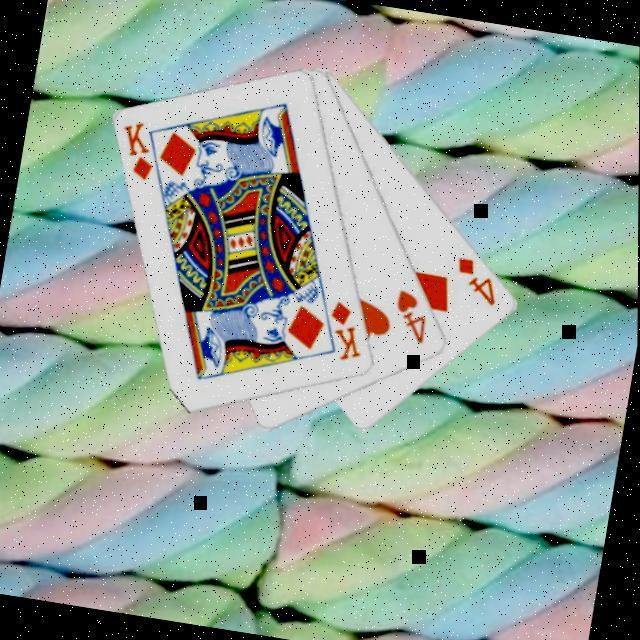4D: (450, 252, 507, 309)
4H: (388, 285, 436, 347)
KD: (322, 296, 373, 366), (114, 116, 165, 185)
